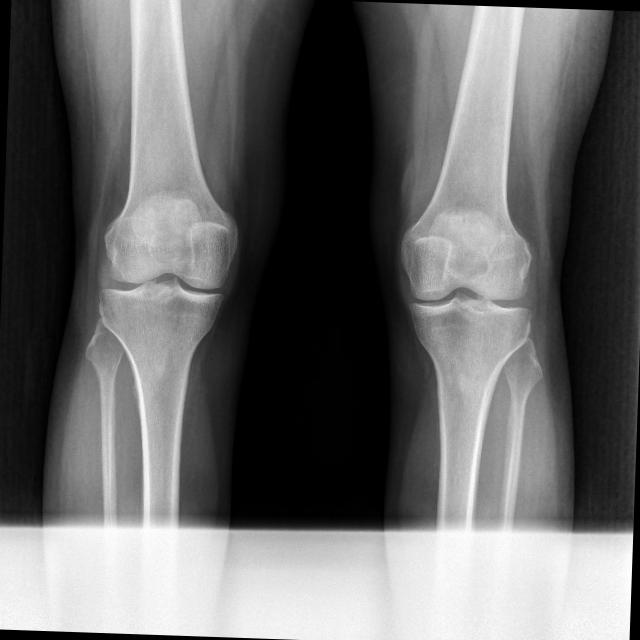Knee: (392, 200, 538, 372), (93, 198, 242, 349)
